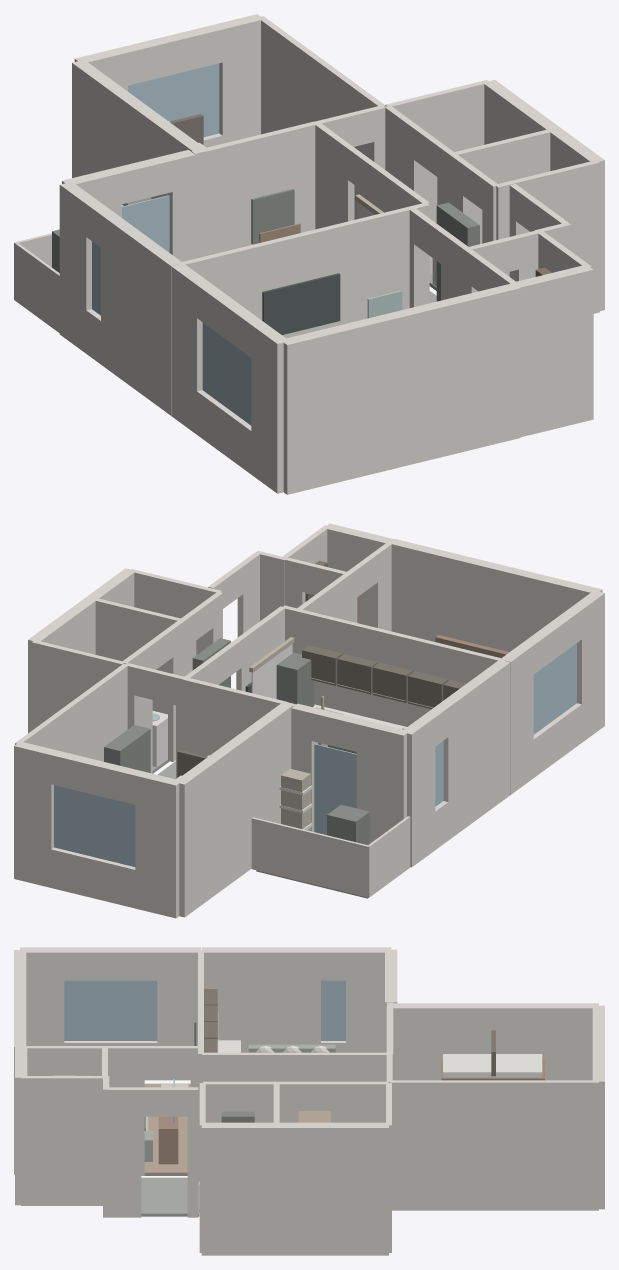
The model's file is kvartira-japandi-school-daily.glb.
3 views of the same model, one above another, from view 1: azimuth 30°, elevation 25°; view 2: azimuth 150°, elevation 25°; view 3: azimuth 270°, elevation 25° (orthographic). The views are drawn at different scales.
Parts seen in each view (by area): view 1: wall_w_l_s_166_612_0.0, wall_w_dividing_168_644_0.0, wall_w_closet_s_612_752_0.0, wall_w_k_w_559_791_0.0, wall_w_top_s_426_660_0.0, wall_w_top_w_20_423_0.0, wall_w_top_e_20_425_0.0, wall_w_wc_s_777_971_0.0, wall_w_l_w_1057_1143_0.0, wall_w_top_n_691_771_0.0, wall_w_bath_n_777_971_0.0, wall_w_k_w_423_511_0.0 (+40 smaller); view 2: wall_w_l_s_166_612_0.0, wall_w_top_w_20_423_0.0, wall_w_dividing_168_644_0.0, wall_w_k_w_559_791_0.0, wall_w_top_n_422_510_0.0, wall_w_log_n_159_409_0.0, wall_w_top_n_691_771_0.0, wall_w_top_e_20_425_0.0, wall_w_top_n_510_691_0.8, wall_w_k_n1_165_266_0.0, wall_w_k_n2_408_643_0.0, wall_w_bath_n_777_971_0.0 (+51 smaller); view 3: wall_w_top_e_20_425_0.0, wall_w_bath_e_427_791_0.0, wall_w_top_w_20_423_0.0, wall_w_k_w_559_791_0.0, wall_w_closet_e_978_1141_0.0, wall_w_l_w_877_1057_0.8, wall_w_entry_e_908_972_0.0, wall_w_l_w_792_877_0.0, wall_w_k_w_423_511_0.0, wall_w_l_w_1057_1143_0.0, wall_w_l_w_877_1057_2.1, wall_w_k_e_625_790_0.0 (+30 smaller).
Boxes of the visible parts, x1,y1,x2,y2 form: wall_w_l_s_166_612_0.0: (281,283,520,494); wall_w_dividing_168_644_0.0: (178,202,429,338); wall_w_closet_s_612_752_0.0: (516,265,593,437); wall_w_k_w_559_791_0.0: (101,212,182,415); wall_w_top_s_426_660_0.0: (204,119,327,256); wall_w_top_w_20_423_0.0: (72,60,204,199); wall_w_top_e_20_425_0.0: (258,16,385,219); wall_w_wc_s_777_971_0.0: (495,161,599,313); wall_w_l_w_1057_1143_0.0: (251,322,289,493); wall_w_top_n_691_771_0.0: (216,14,263,143); wall_w_bath_n_777_971_0.0: (385,80,489,223); wall_w_k_w_423_511_0.0: (59,183,98,353); wall_w_l_s_166_612_0.0: (390,539,602,651); wall_w_top_w_20_423_0.0: (174,703,292,917); wall_w_dividing_168_644_0.0: (282,605,505,726); wall_w_k_w_559_791_0.0: (437,659,510,840); wall_w_top_n_422_510_0.0: (135,771,181,918); wall_w_log_n_159_409_0.0: (251,817,368,897); wall_w_top_n_691_771_0.0: (14,742,56,887); wall_w_top_e_20_425_0.0: (15,663,127,761); wall_w_top_n_510_691_0.8: (54,785,135,866); wall_w_k_n1_165_266_0.0: (356,719,409,843); wall_w_k_n2_408_643_0.0: (183,679,295,756); wall_w_bath_n_777_971_0.0: (32,641,124,730); wall_w_top_e_20_425_0.0: (390,1080,598,1210); wall_w_bath_e_427_791_0.0: (201,1122,388,1255); wall_w_top_w_20_423_0.0: (391,1003,598,1080); wall_w_k_w_559_791_0.0: (201,947,320,1052); wall_w_closet_e_978_1141_0.0: (21,1076,104,1205); wall_w_l_w_877_1057_0.8: (64,980,157,1040); wall_w_entry_e_908_972_0.0: (108,1087,141,1217); wall_w_l_w_792_877_0.0: (157,947,200,1080); wall_w_k_w_423_511_0.0: (346,947,391,1052); wall_w_l_w_1057_1143_0.0: (20,947,64,1045); wall_w_l_w_877_1057_2.1: (64,947,157,980); wall_w_k_e_625_790_0.0: (202,1052,286,1111).
Bounding box in the file's own units: 8.24 × 2.77 × 11.41.
